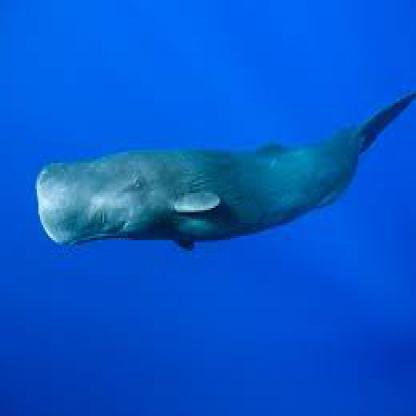sperm_whale: (29, 98, 414, 292)
